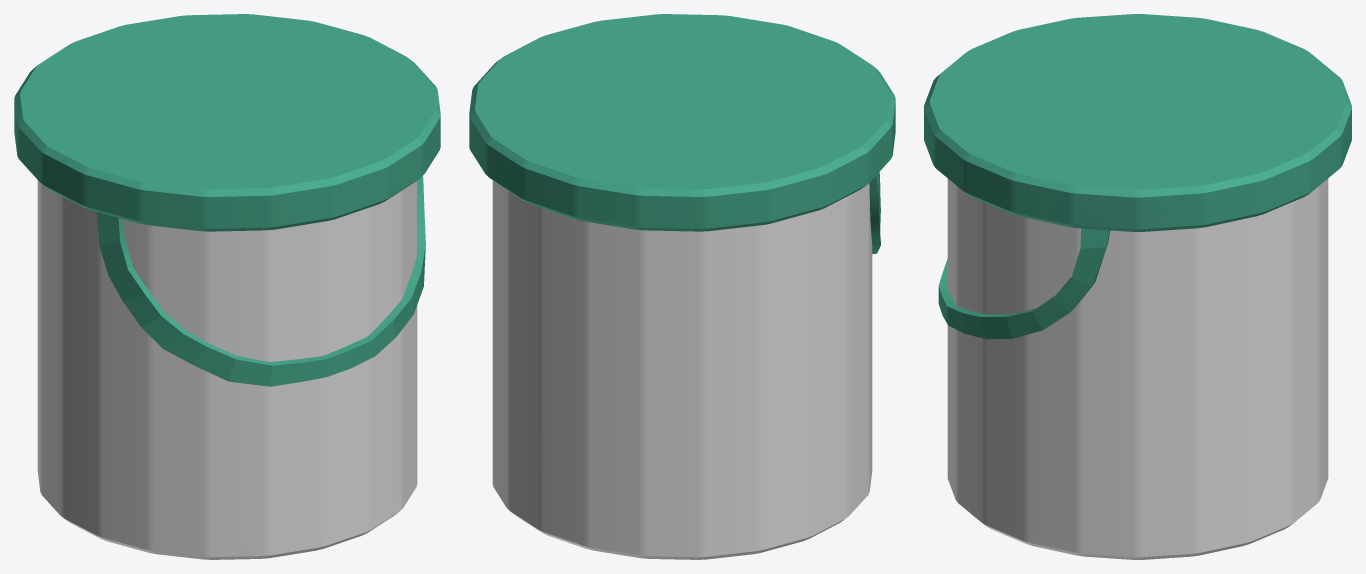
Rendered from Ürün49.fbx.
3 views of the same model, side by side, from view 1: azimuth 30°, elevation 25°; view 2: azimuth 150°, elevation 25°; view 3: azimuth 270°, elevation 25° (orthographic).
Parts seen in each view (by area): view 1: pCylinder29; view 2: pCylinder29; view 3: pCylinder29.
Boxes of the visible parts, bbox=[...] form: pCylinder29: bbox=[14, 14, 440, 559]; pCylinder29: bbox=[469, 14, 895, 559]; pCylinder29: bbox=[924, 14, 1351, 559].
Size of the model in its own units: 20.06 by 19.68 by 20.06.
